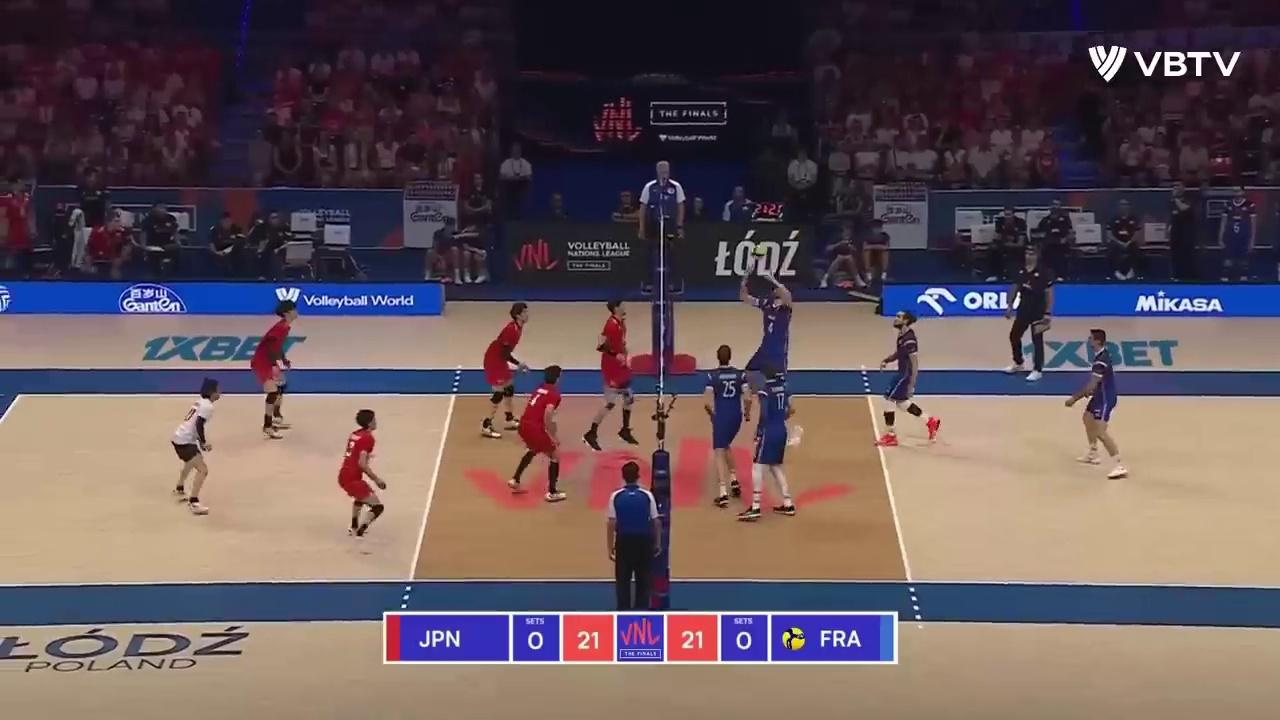ball: (752, 243, 768, 261)
